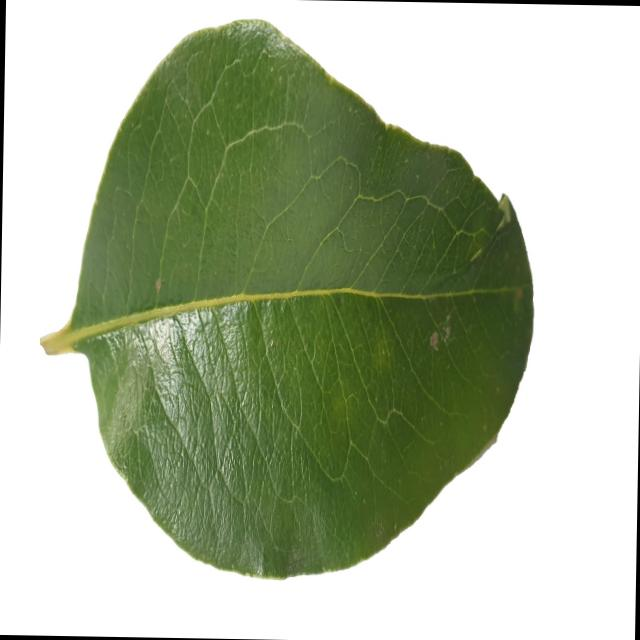Medicinal-Sandalwood: (34, 10, 540, 580)
